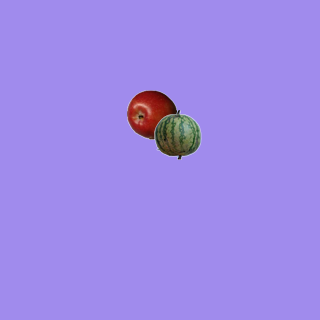Apple Braeburn: (126, 89, 176, 139)
Watermelon: (152, 109, 202, 159)
